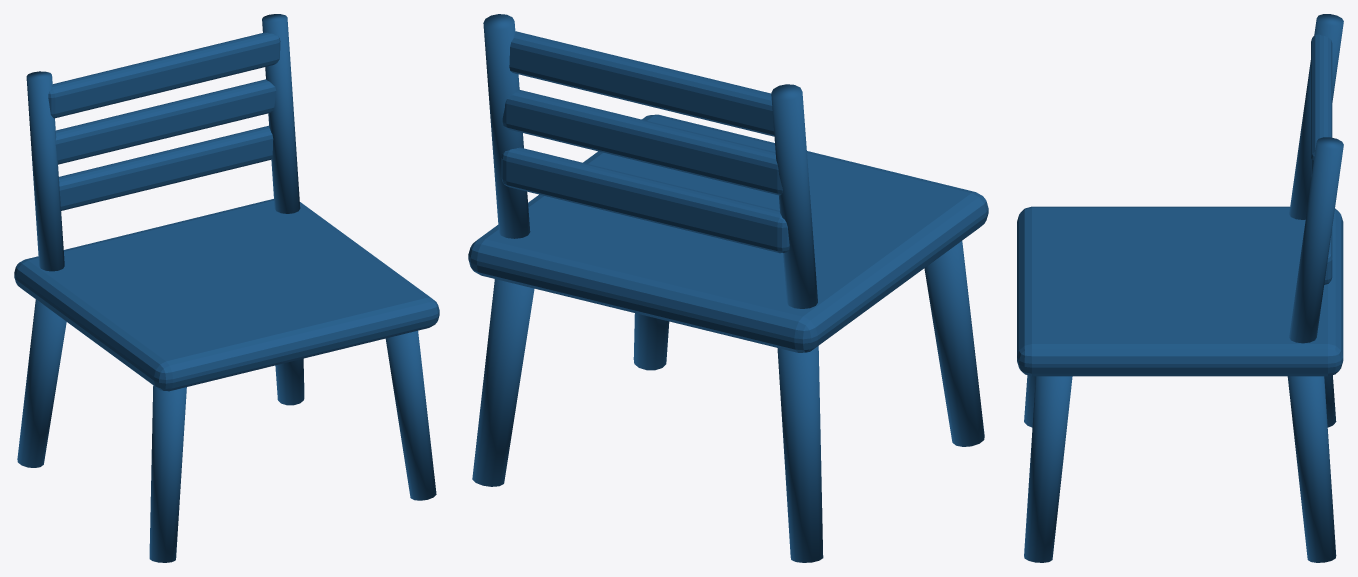
File: CP10b-chair.glb
The picture shows the model from 3 angles, left to right: view 1: azimuth 30°, elevation 25°; view 2: azimuth 150°, elevation 25°; view 3: azimuth 270°, elevation 25°; orthographic projection. The views are drawn at different scales.
Visible parts, largest first — view 1: CP10b-chair; view 2: CP10b-chair; view 3: CP10b-chair.
Boxes of the visible parts, <box> form: CP10b-chair: <box>14,14,439,562</box>; CP10b-chair: <box>468,14,988,562</box>; CP10b-chair: <box>1017,14,1343,562</box>.
Bounding box in the file's own units: 0.82 × 1.06 × 0.7617.
